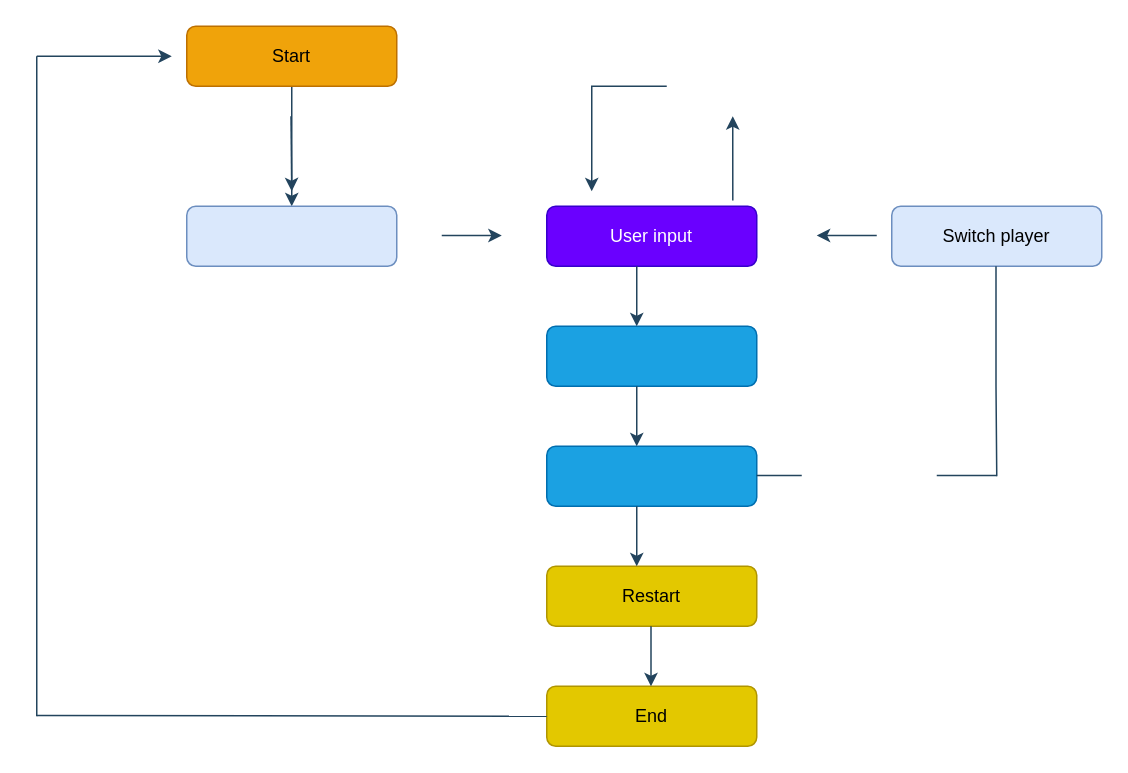
Some shapes in this 1128 by 773 pixel diagram are drawn without their labels. The shapes that lost their labels are listed below. From the top down, each one's centre as x and y in pixels, then its label:
At (291,235): "Print Board".
At (651,355): "updated Board &print Board".
At (651,475): "check winner/tie".
